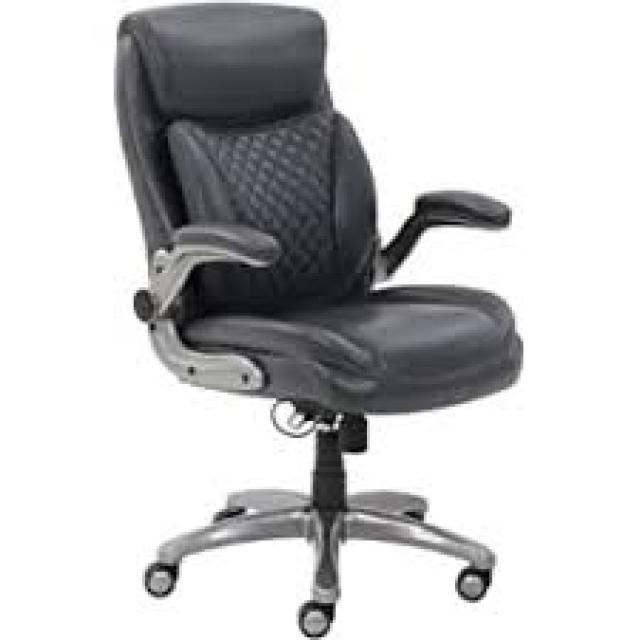chair: (24, 0, 640, 640)
